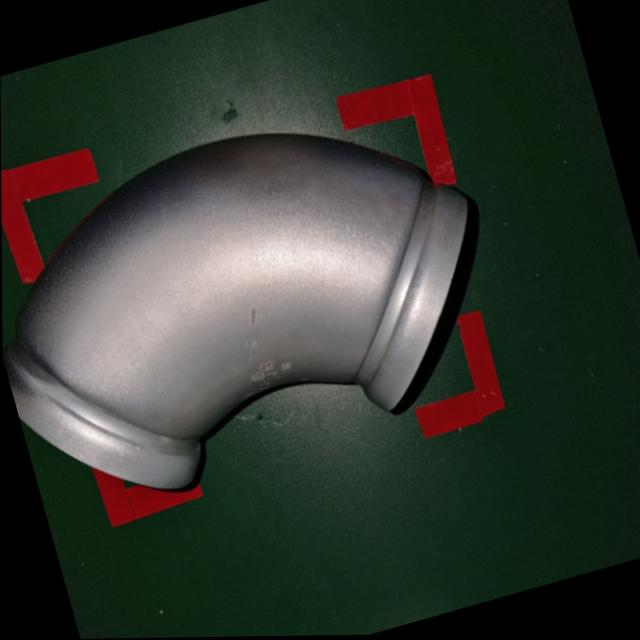Defect: (0, 71, 527, 532)
Hole: (207, 286, 312, 411)
